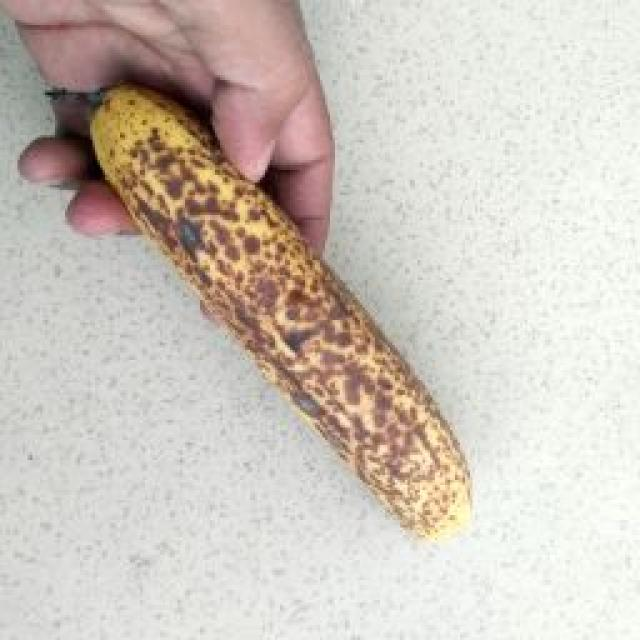banana: (29, 71, 523, 611)
